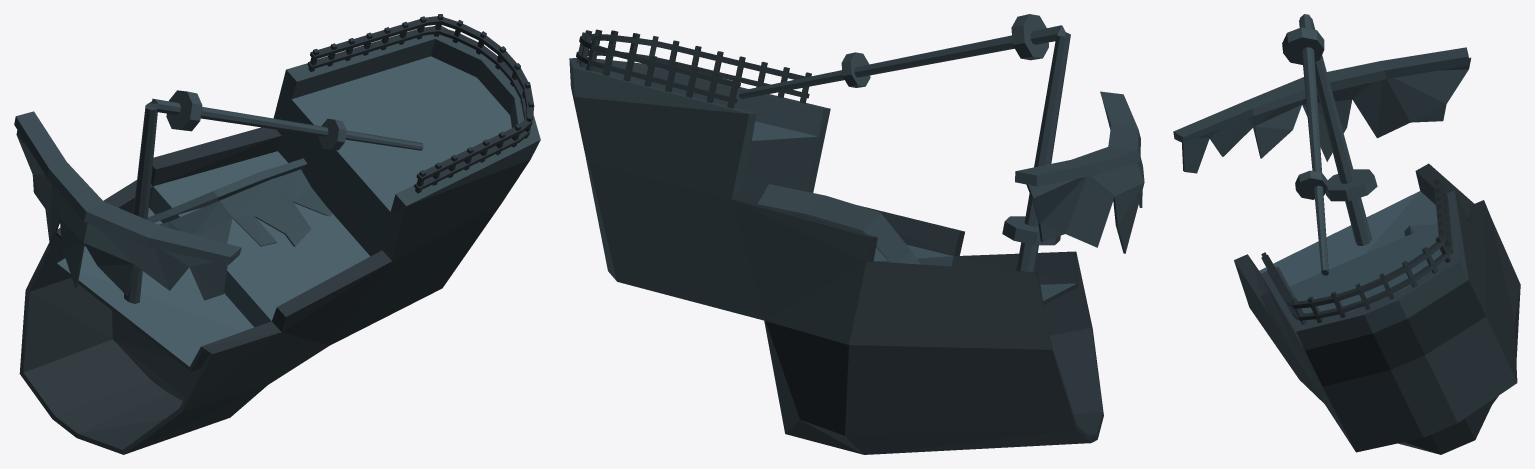
The model's file is Ship_055.glb.
3 views of the same model, side by side, from view 1: azimuth 30°, elevation 25°; view 2: azimuth 150°, elevation 25°; view 3: azimuth 270°, elevation 25° (orthographic). The views are drawn at different scales.
Parts seen in each view (by area): view 1: Ship_055; view 2: Ship_055; view 3: Ship_055.
Boxes of the visible parts, x1,y1,x2,y2 form: Ship_055: [14, 14, 540, 454]; Ship_055: [569, 14, 1144, 454]; Ship_055: [1173, 14, 1520, 454].
Size of the model in its own units: 9.21 by 6.86 by 5.82.
1 material, 1 textured.
